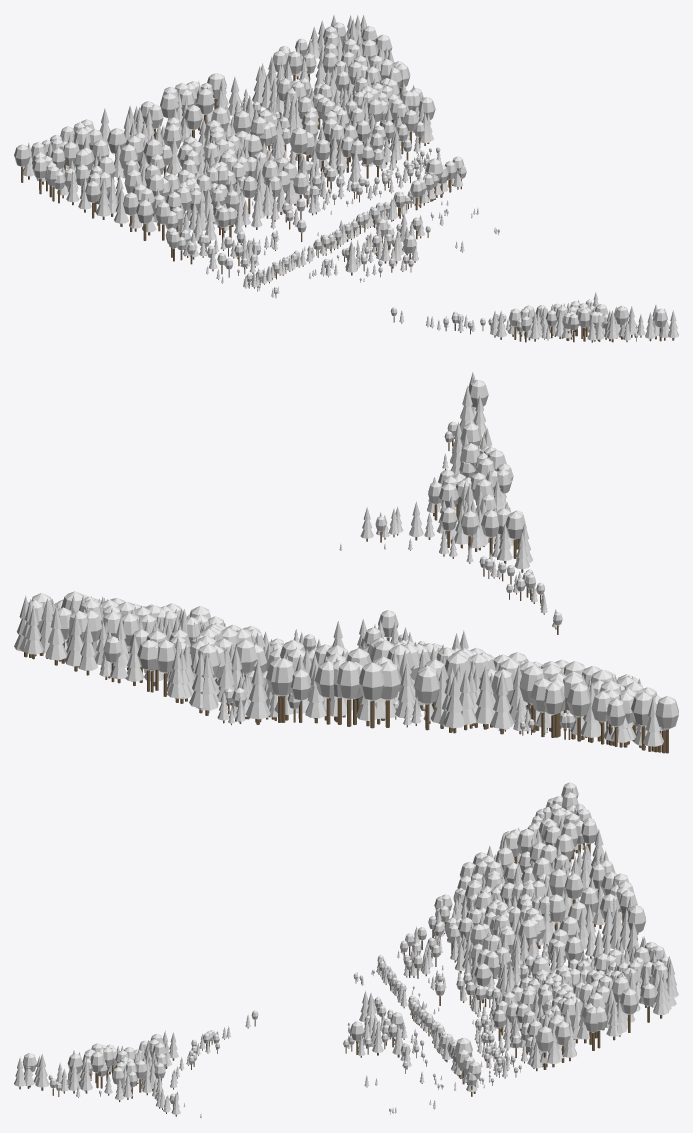
File: stromy.glb
The picture shows the model from 3 angles, top to bottom: view 1: azimuth 30°, elevation 25°; view 2: azimuth 150°, elevation 25°; view 3: azimuth 270°, elevation 25°; orthographic projection. The views are drawn at different scales.
Visible parts, largest first — view 1: Stromy_Listnate_08_01, Stromy_Ihlicnate_08_01; view 2: Stromy_Listnate_08_01, Stromy_Ihlicnate_08_01; view 3: Stromy_Listnate_08_01, Stromy_Ihlicnate_08_01.
Boxes of the visible parts, bbox=[...] form: Stromy_Listnate_08_01: bbox=[14, 22, 667, 342]; Stromy_Ihlicnate_08_01: bbox=[23, 14, 678, 342]; Stromy_Listnate_08_01: bbox=[28, 379, 678, 753]; Stromy_Ihlicnate_08_01: bbox=[14, 372, 663, 751]; Stromy_Listnate_08_01: bbox=[22, 782, 668, 1114]; Stromy_Ihlicnate_08_01: bbox=[14, 787, 678, 1118].
Bounding box in the file's own units: 359 × 114 × 481.
